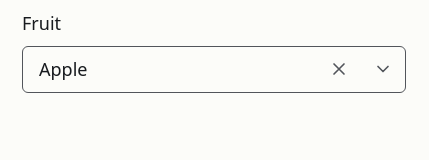
it: single selection › clears text and selection with the clear button
The image size is (429, 160).
Click the button named "Clear": (339, 69) [317,47,361,91]
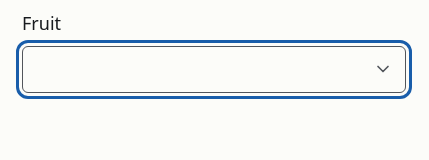
Expected: the dropdown is empty, [23,47,361,92]
Expected: the button "Clear" is gone
